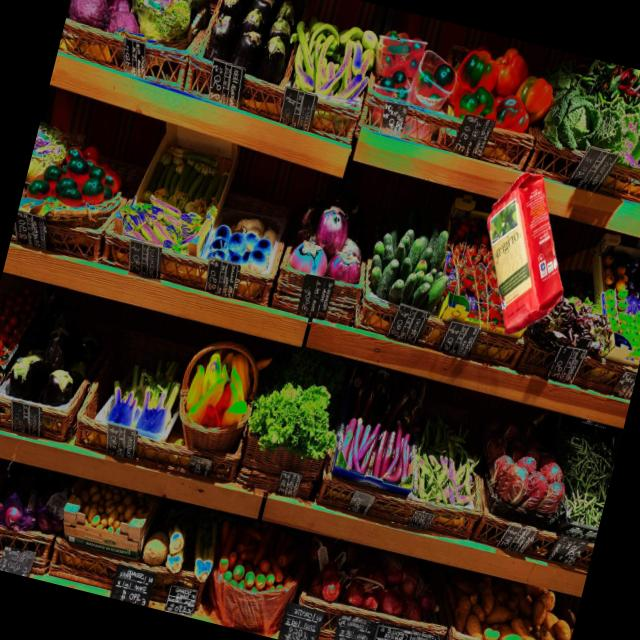mate bag: (461, 163, 590, 345)
